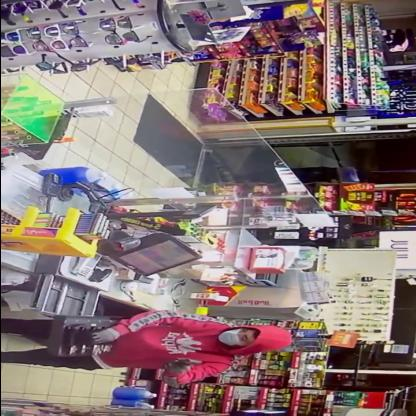Pistol: (166, 352, 206, 376)
